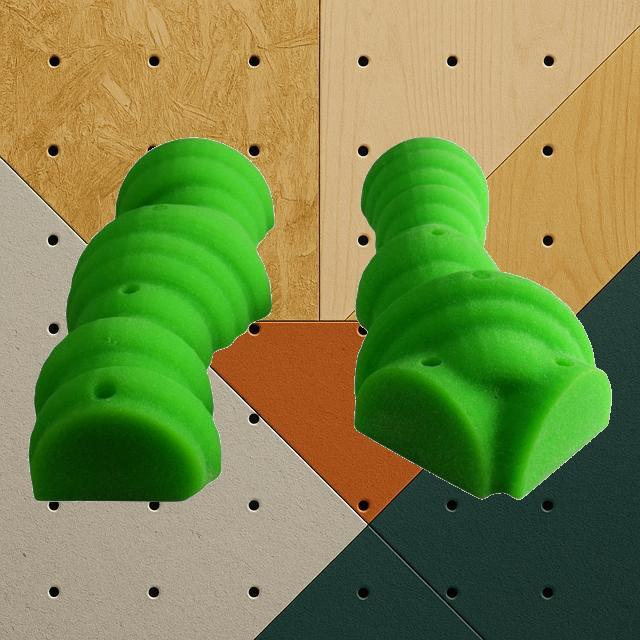Pinch: (352, 134, 612, 500), (27, 135, 275, 502)
